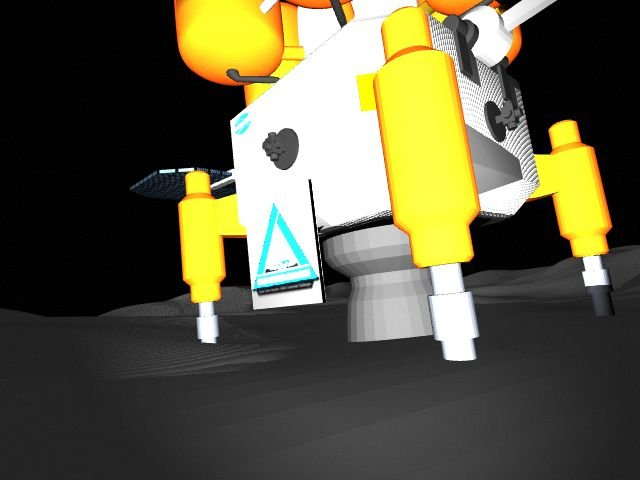basemarker: (251, 201, 319, 297)
